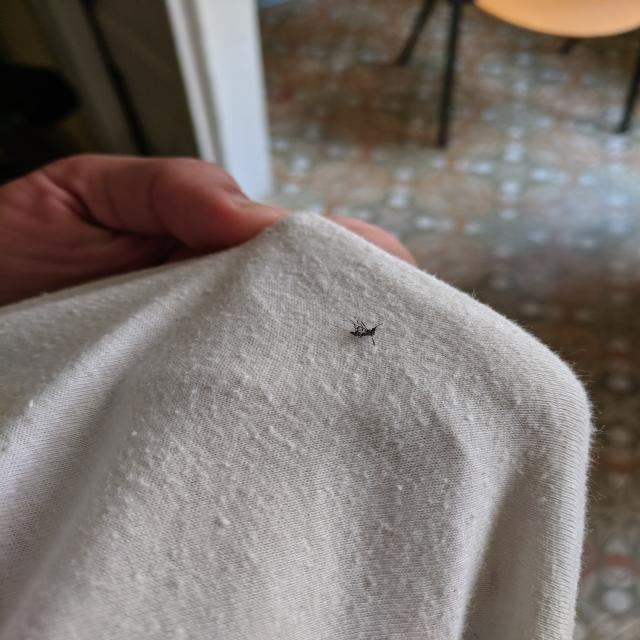albopictus: (337, 312, 390, 351)
